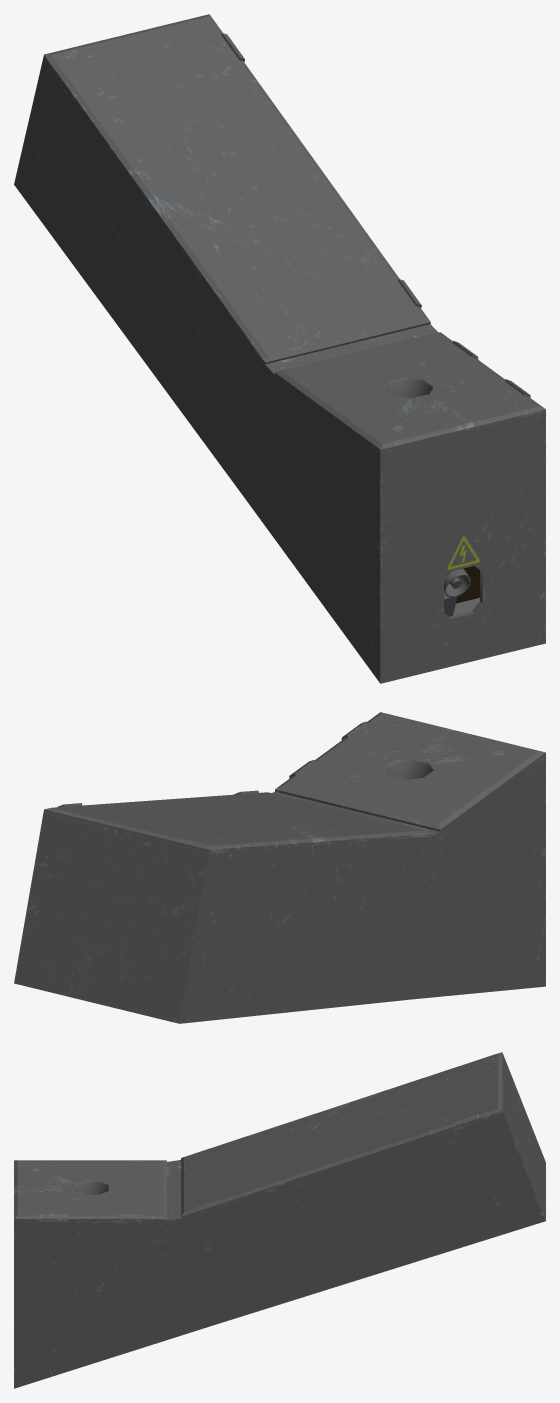
The model's file is ShootCondensator.FBX.
3 renders of one model, top to bottom at view 1: azimuth 30°, elevation 25°; view 2: azimuth 150°, elevation 25°; view 3: azimuth 270°, elevation 25°, orthographic. The views are drawn at different scales.
Visible parts, largest first — view 1: ShootCondensator, Cap2, Cap1; view 2: ShootCondensator, Cap1, Cap2; view 3: ShootCondensator, Cap2, Cap1.
Boxes of the visible parts, <box> form: ShootCondensator: <box>14,57,545,683</box>; Cap2: <box>43,14,430,364</box>; Cap1: <box>275,332,545,451</box>; ShootCondensator: <box>14,755,545,1023</box>; Cap1: <box>275,712,545,831</box>; Cap2: <box>43,790,430,852</box>; ShootCondensator: <box>14,1054,545,1388</box>; Cap2: <box>181,1052,502,1217</box>; Cap1: <box>14,1160,166,1221</box>.
Bounding box in the file's own units: 37.75 × 82.53 × 143.
1 material, 1 textured.
